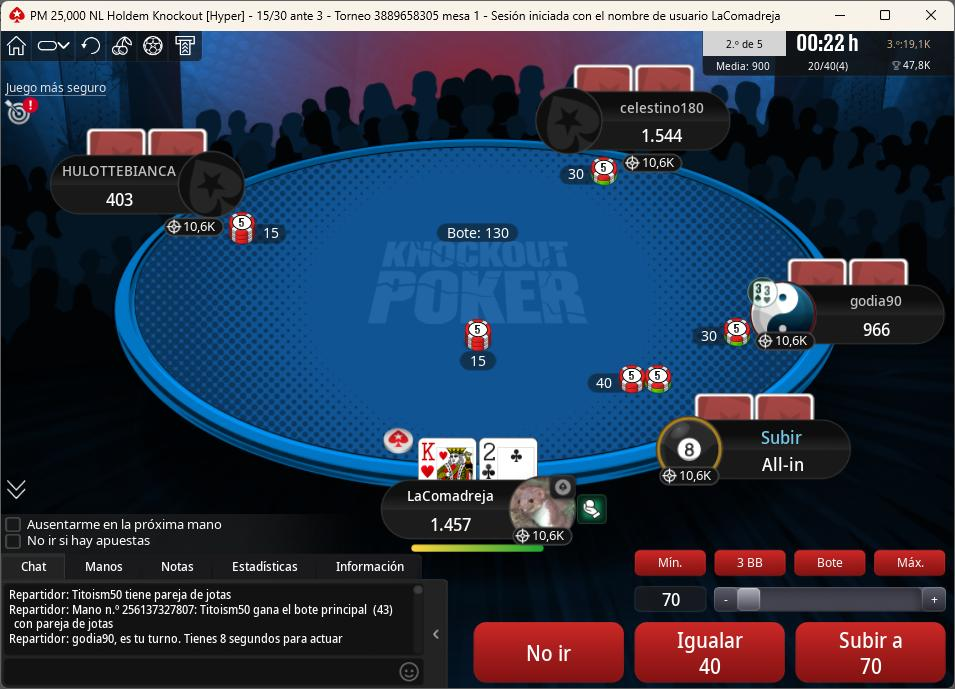ButtonCall: (632, 618, 787, 685)
ButtonFold: (472, 620, 631, 685)
ButtonMaxRaise: (875, 549, 947, 575)
ButtonMinRaise: (633, 547, 711, 580)
ButtonPotRaise: (796, 552, 867, 577)
ButtonRaise: (792, 618, 947, 684)
Dealer: (382, 425, 419, 456)
HiddenCards: (692, 393, 822, 423), (83, 132, 211, 160), (575, 67, 701, 95), (787, 259, 913, 286)
Player: (747, 284, 951, 352), (652, 421, 854, 489), (52, 151, 250, 215), (542, 94, 734, 160)
PlayerBet: (583, 356, 679, 399), (230, 212, 294, 248), (688, 318, 756, 351)
PlayerChips: (757, 453, 814, 476), (858, 322, 900, 342), (99, 191, 139, 211)
Pot: (434, 223, 521, 244)
PrincipalCards: (414, 437, 541, 484)
PrincipalCards1: (418, 435, 478, 481)
PrincipalCards2: (479, 434, 542, 483)
PrincipalPlayer: (385, 475, 587, 551)
PrincipalPlayerChips: (422, 517, 480, 537)
SmallBigBlind: (245, 5, 336, 27)
TablePot: (451, 316, 517, 379)
